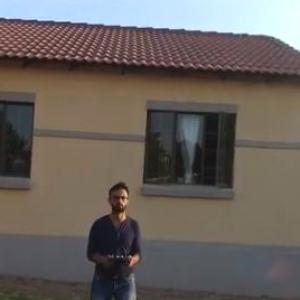follow: (77, 176, 147, 299)
